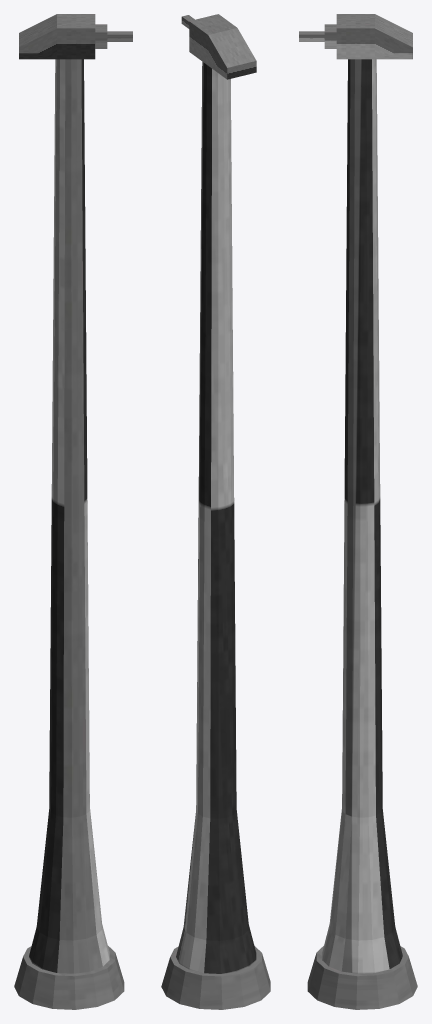
The model's file is prop-wind-turbine-tower.fbx.
3 views of the same model, side by side, from view 1: azimuth 90°, elevation 25°; view 2: azimuth 210°, elevation 25°; view 3: azimuth 270°, elevation 25° (orthographic).
Visible parts, largest first — view 1: Cylinder.005; view 2: Cylinder.005; view 3: Cylinder.005.
Boxes of the visible parts, x1,y1,x2,y2 form: Cylinder.005: (14,14,132,1009); Cylinder.005: (161,14,270,1009); Cylinder.005: (299,14,417,1009).
Size of the model in its own units: 185 by 1777 by 198.
